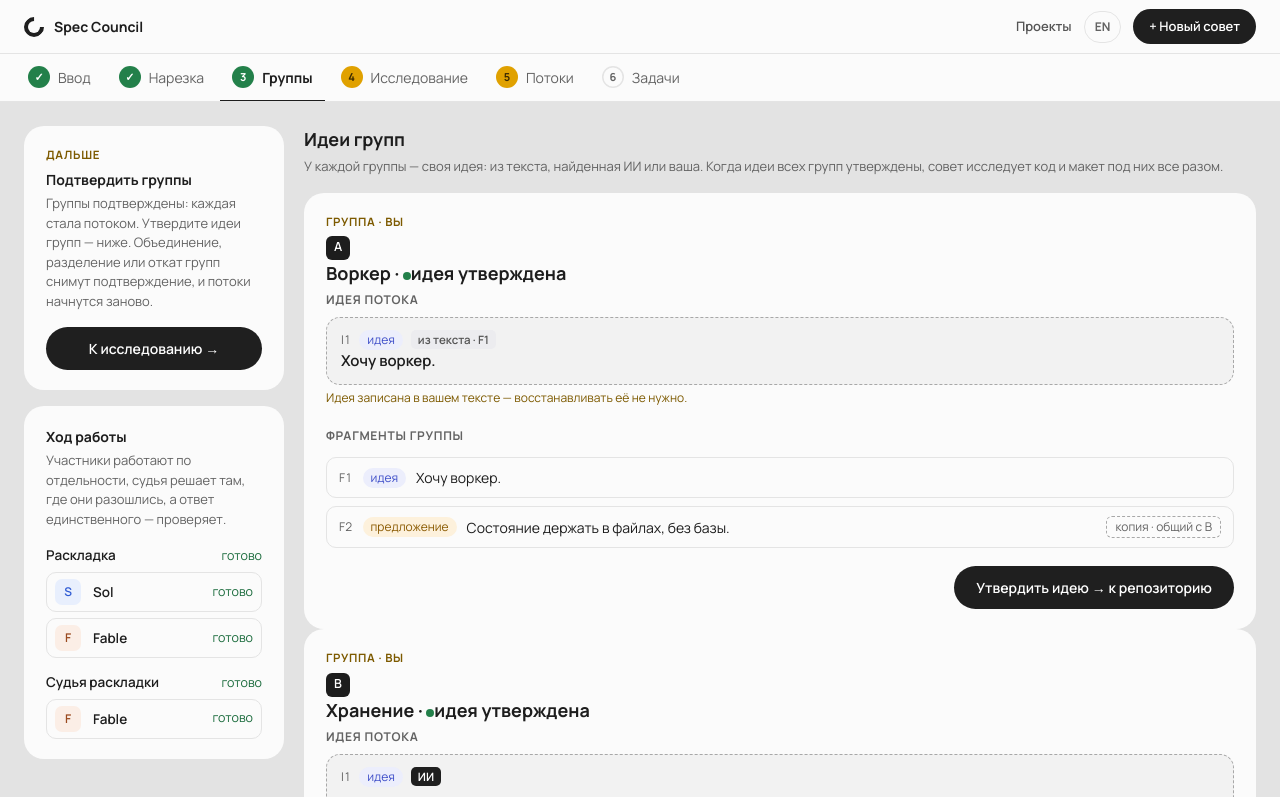
Подтверждение групп и потоки › идеи всех групп утверждены — ссылка «К исследованию», а не кнопка
Expected: the text "Группы подтверждены: каждая стала потоком. Утвердите идеи групп — ниже. Объединение, разделение или откат групп снимут п" is shown, [46, 194, 251, 310]
Click the link "К исследованию →".
click(154, 349)  # box [46, 327, 262, 370]
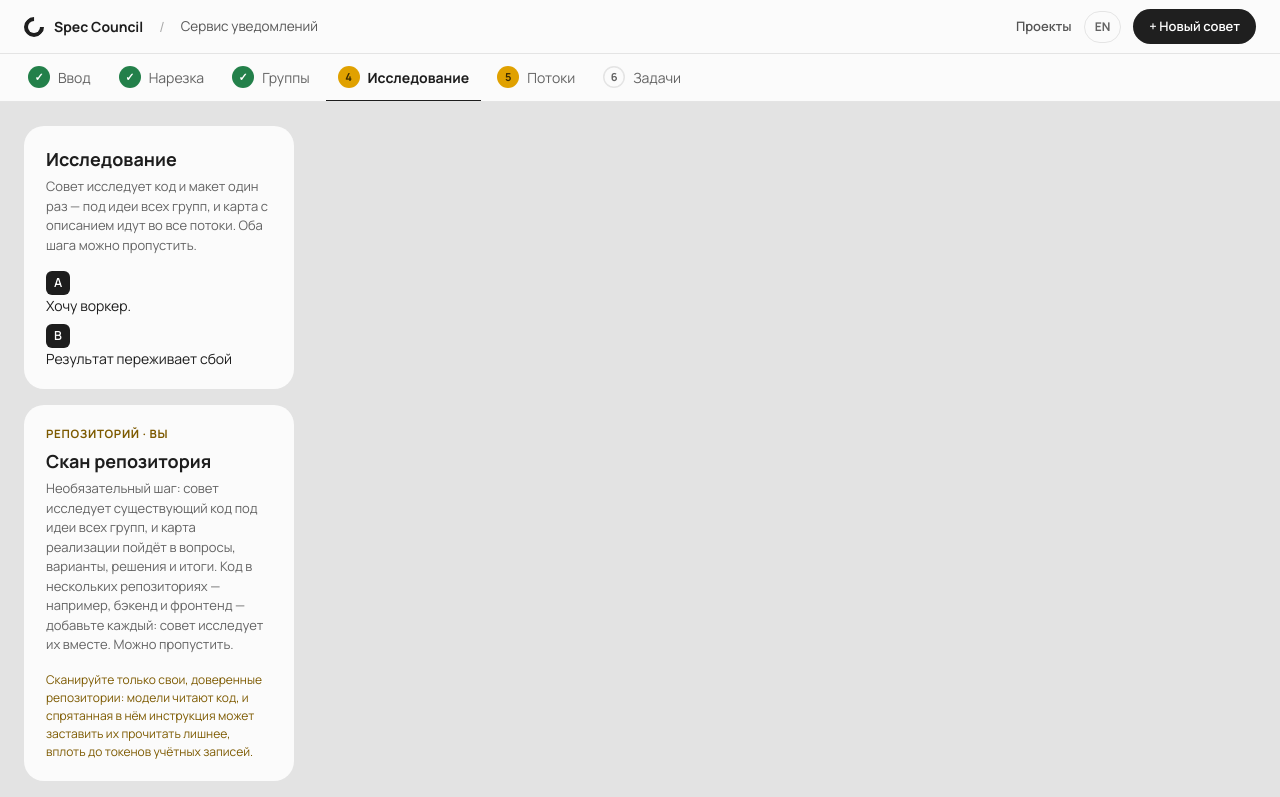
Now the heading "Исследование" is shown, box [46, 147, 177, 171]
